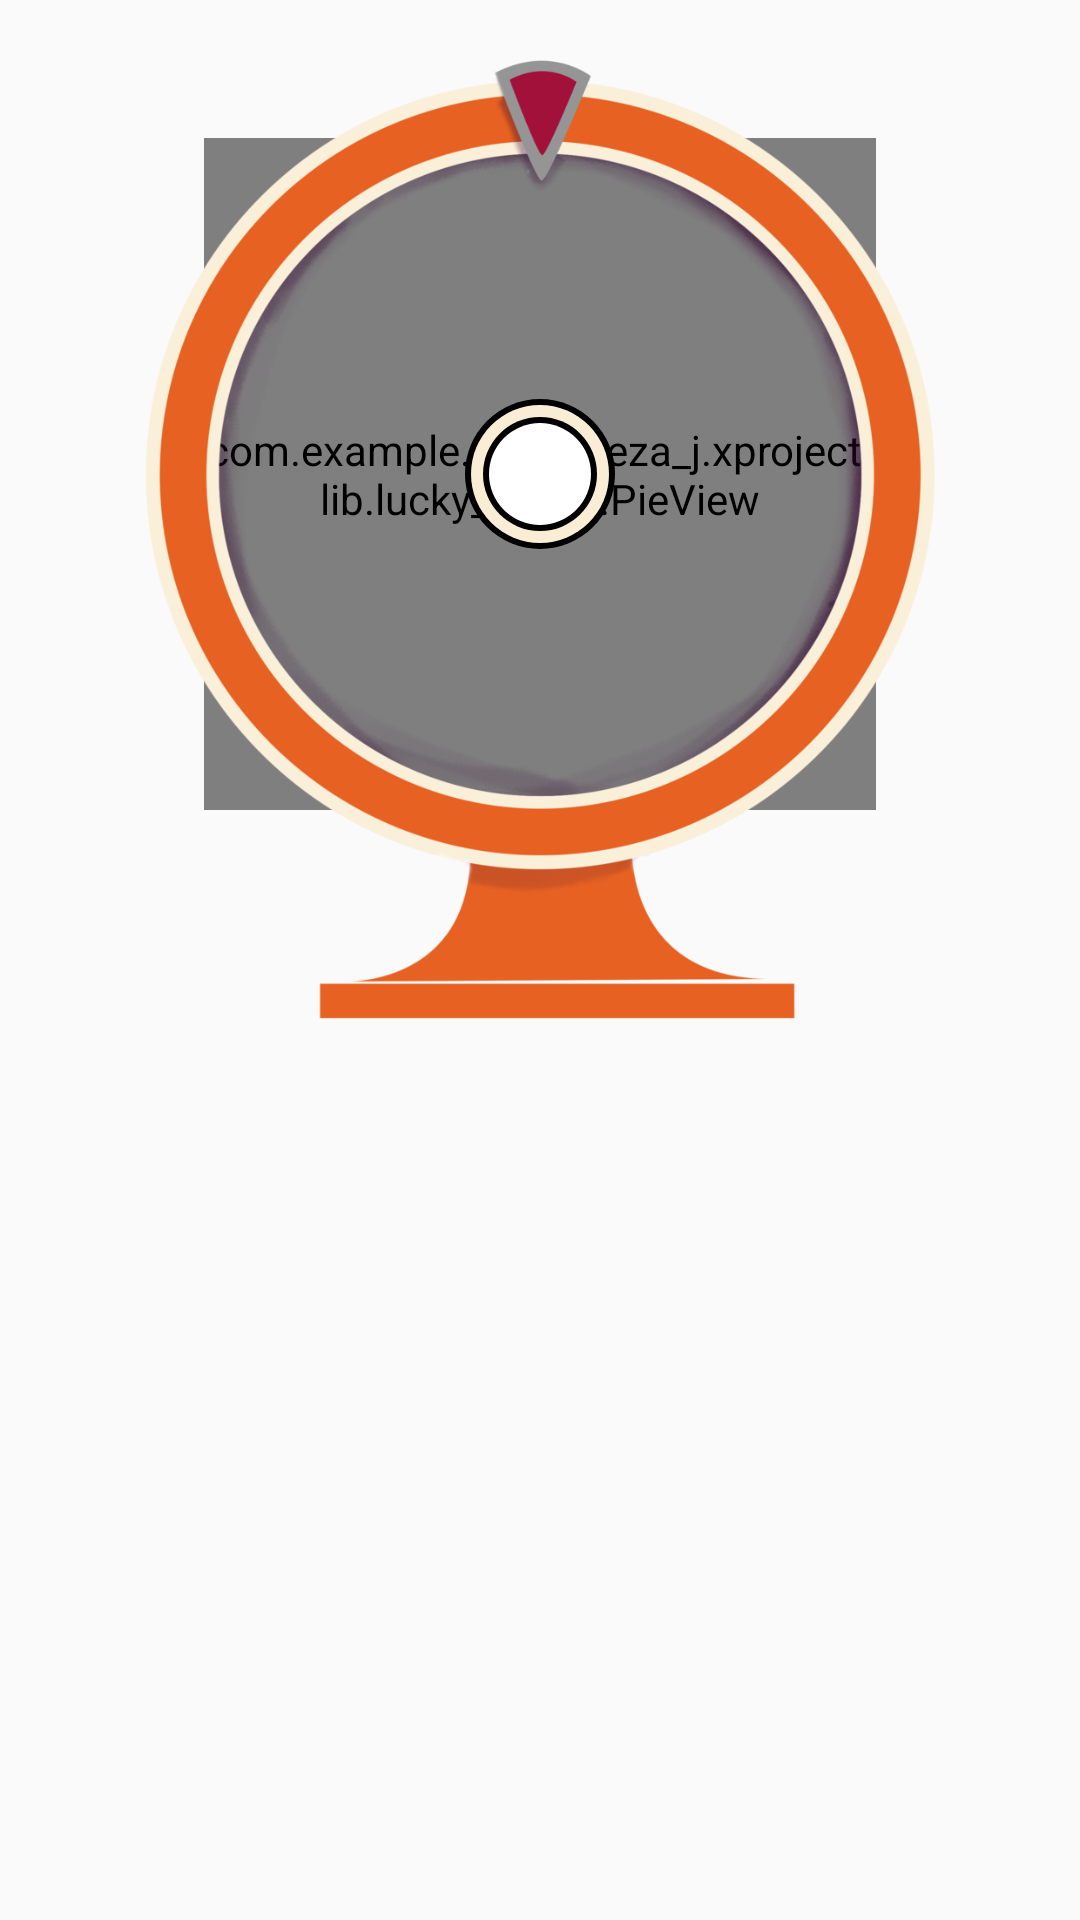

Icons on this 1080×1920 Android screen, each with the point to tap as [x,y]:
cursor: [540,123]
